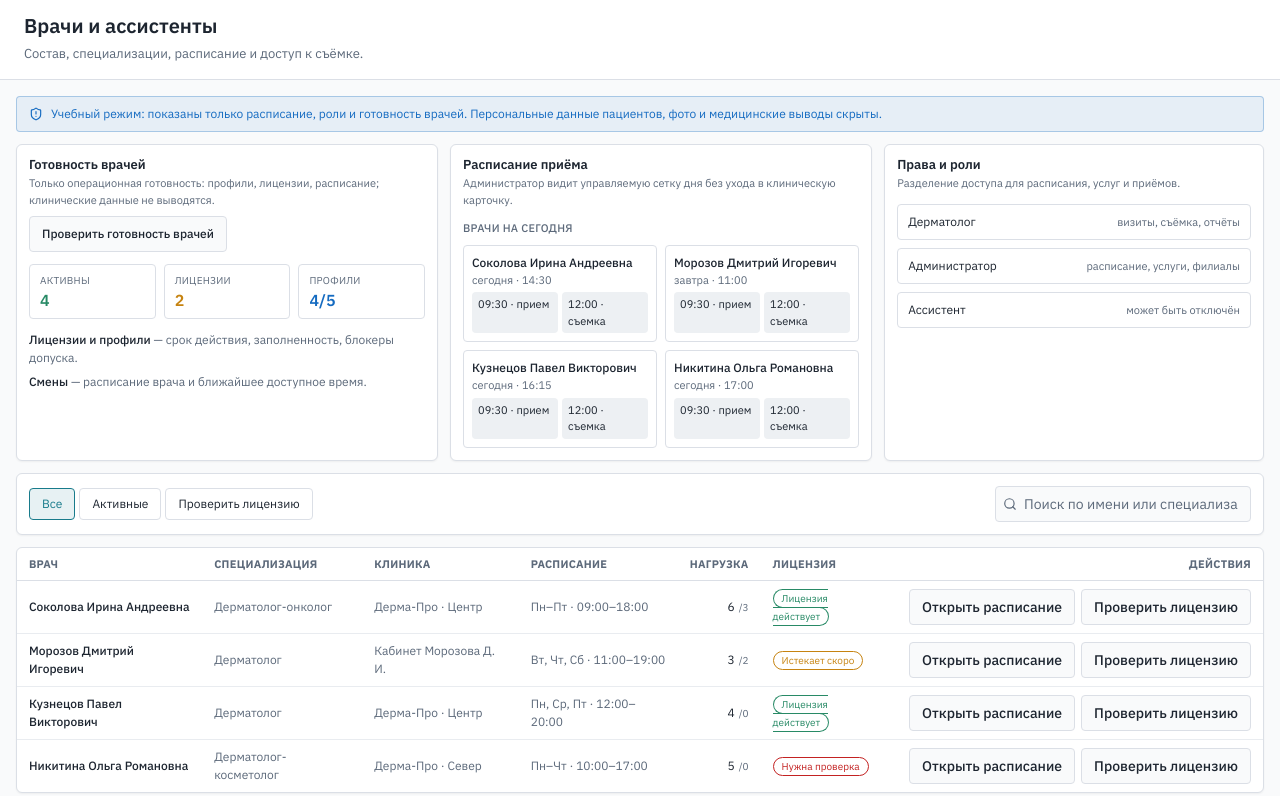
Admin clinic core pages — render & safety › AdminDoctorsPage shows empty state with active query chip and reset
The width and height of the screenshot is (1280, 796).
In the field named "Поиск врачей": {"x": 1123, "y": 504} [995,486,1251,522], type "ZZZZнетсовпадений"
(page scrolled)
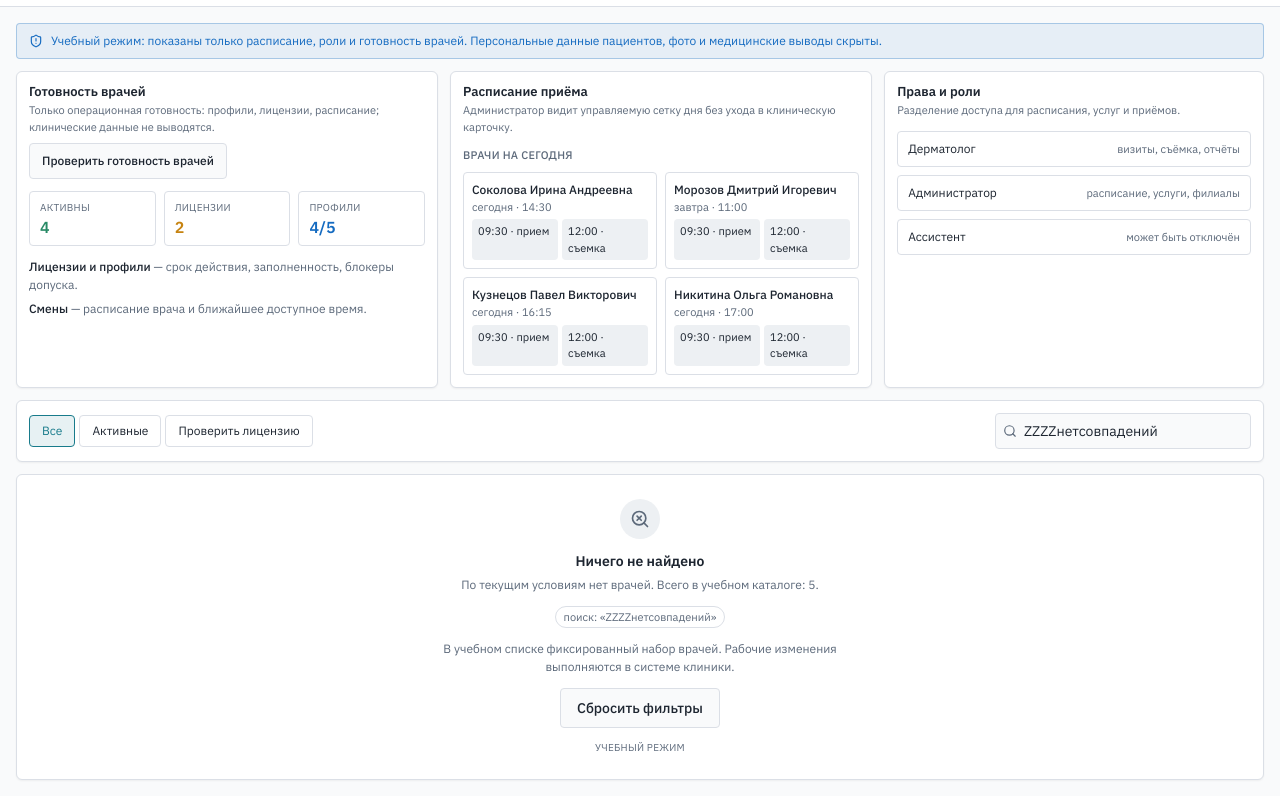
Check: the text "Ничего не найдено" is shown, box [576,552,704,570]
Check: the list item "поиск: «ZZZZнетсовпадений»" is shown, box [555,606,725,628]
Click the button with aria-label "Сбросить поиск и фильтры": {"x": 640, "y": 708} [560,688,720,728]
(page scrolled)
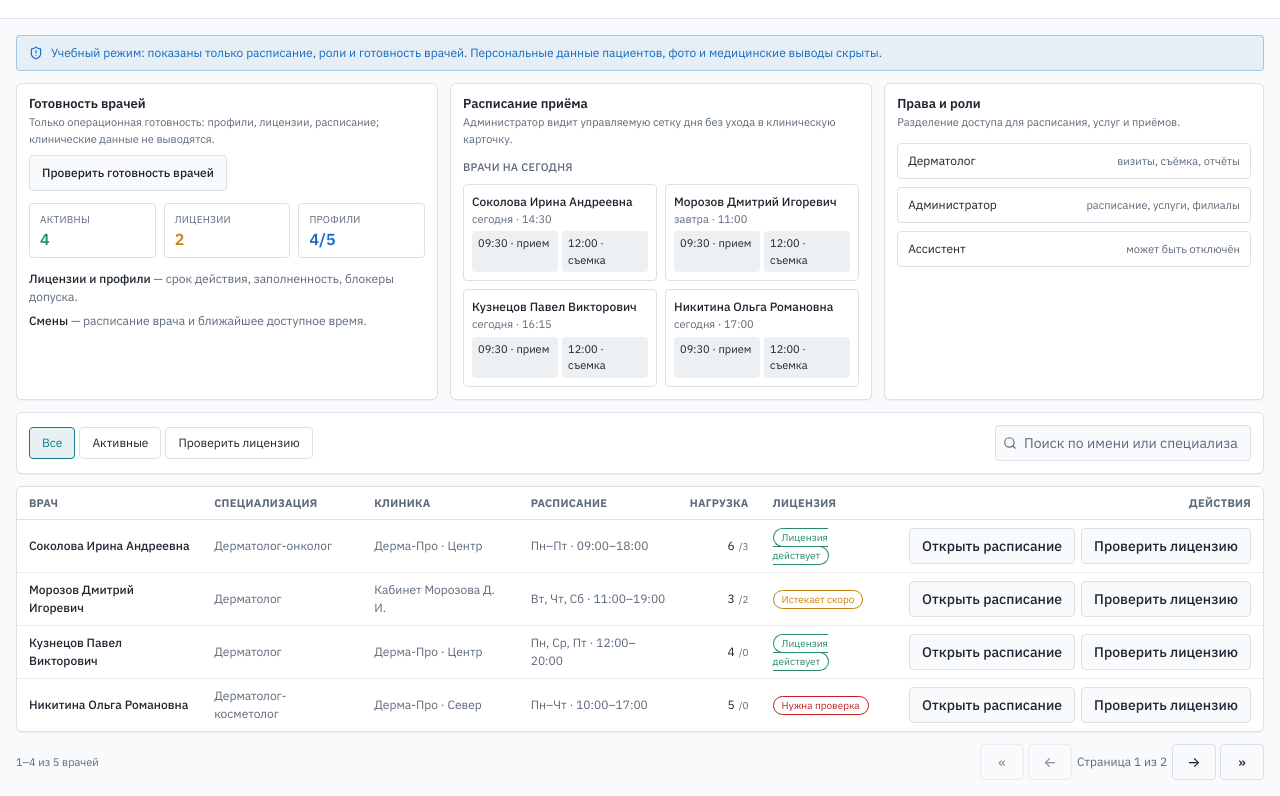
Check: the text "Ничего не найдено" is gone
Check: the field named "Поиск врачей" is empty, box [995,425,1251,461]
